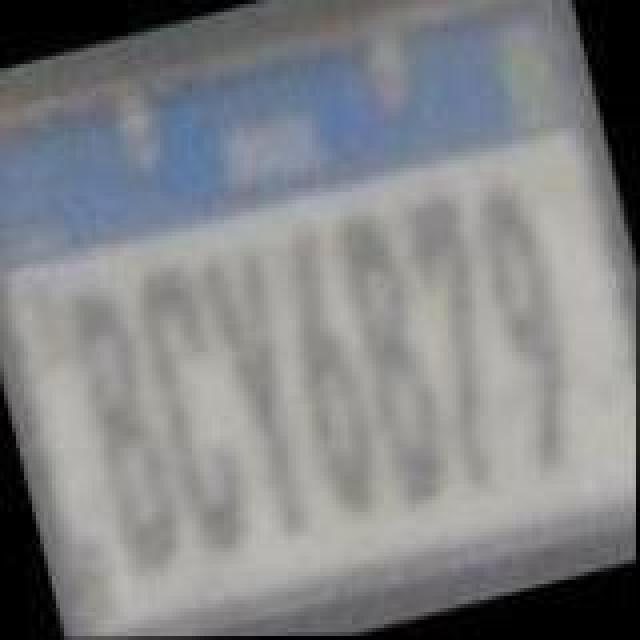6: (260, 224, 392, 528)
7: (396, 190, 528, 494)
9: (458, 178, 594, 482)
B: (334, 212, 462, 516), (62, 280, 190, 572)
C: (128, 266, 260, 562)
Y: (198, 248, 326, 544)
